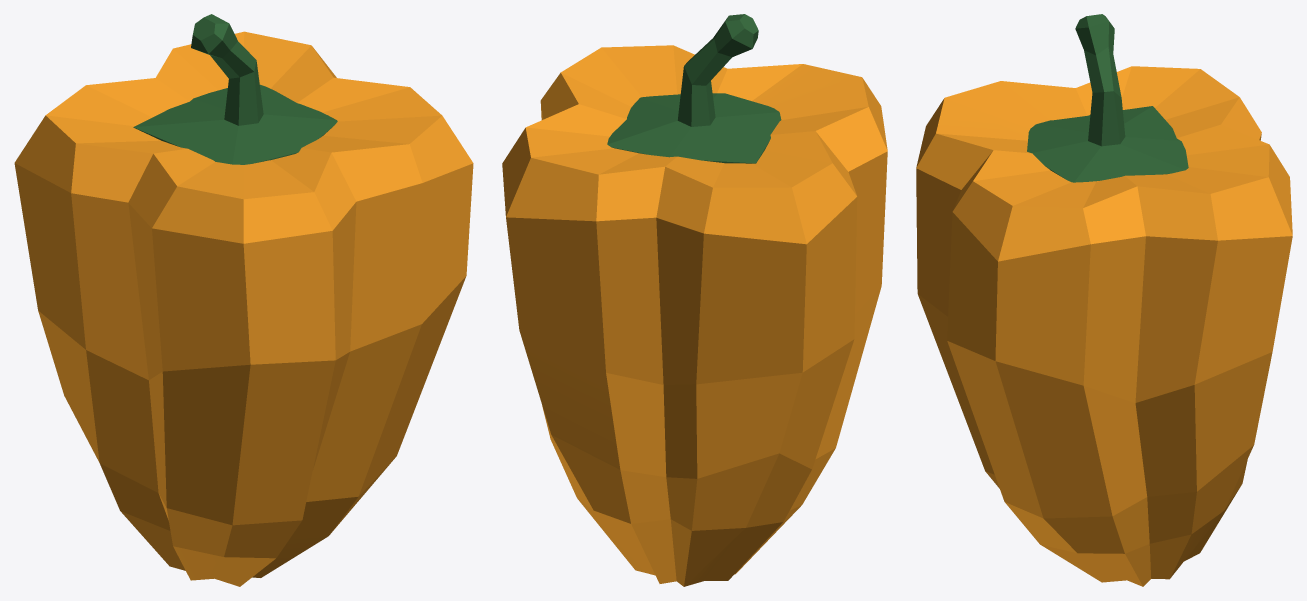
The model's file is Pepper_Raw.fbx.
3 renders of one model, left to right at view 1: azimuth 30°, elevation 25°; view 2: azimuth 150°, elevation 25°; view 3: azimuth 270°, elevation 25°, orthographic. The views are drawn at different scales.
Visible parts, largest first — view 1: SM_Pepper_Raw; view 2: SM_Pepper_Raw; view 3: SM_Pepper_Raw.
Part boxes in pixels (bbox=[...]): SM_Pepper_Raw: bbox=[14, 14, 473, 586]; SM_Pepper_Raw: bbox=[502, 14, 887, 586]; SM_Pepper_Raw: bbox=[916, 14, 1292, 586].
Size of the model in its own units: 6.98 by 11.14 by 7.01.
Materials: 1 (1 with a texture image).
